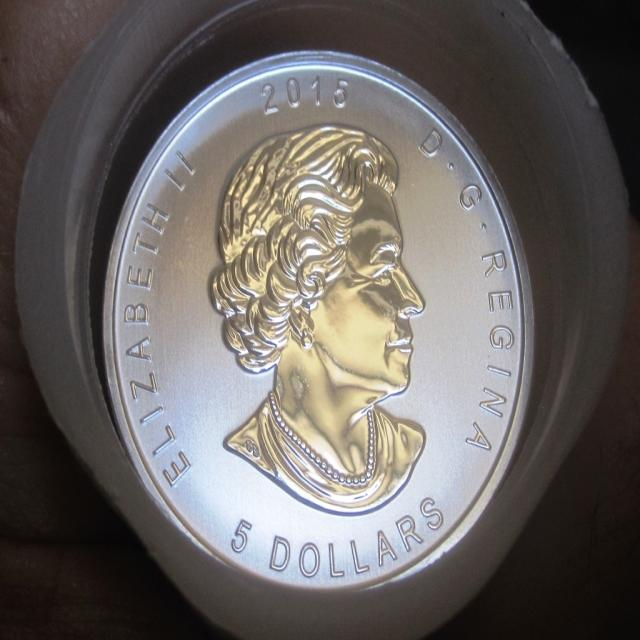Coin: (102, 46, 538, 594)
